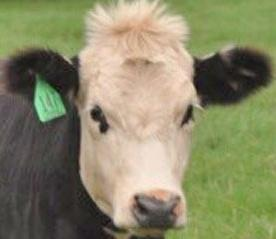muzzles: (112, 187, 190, 237)
